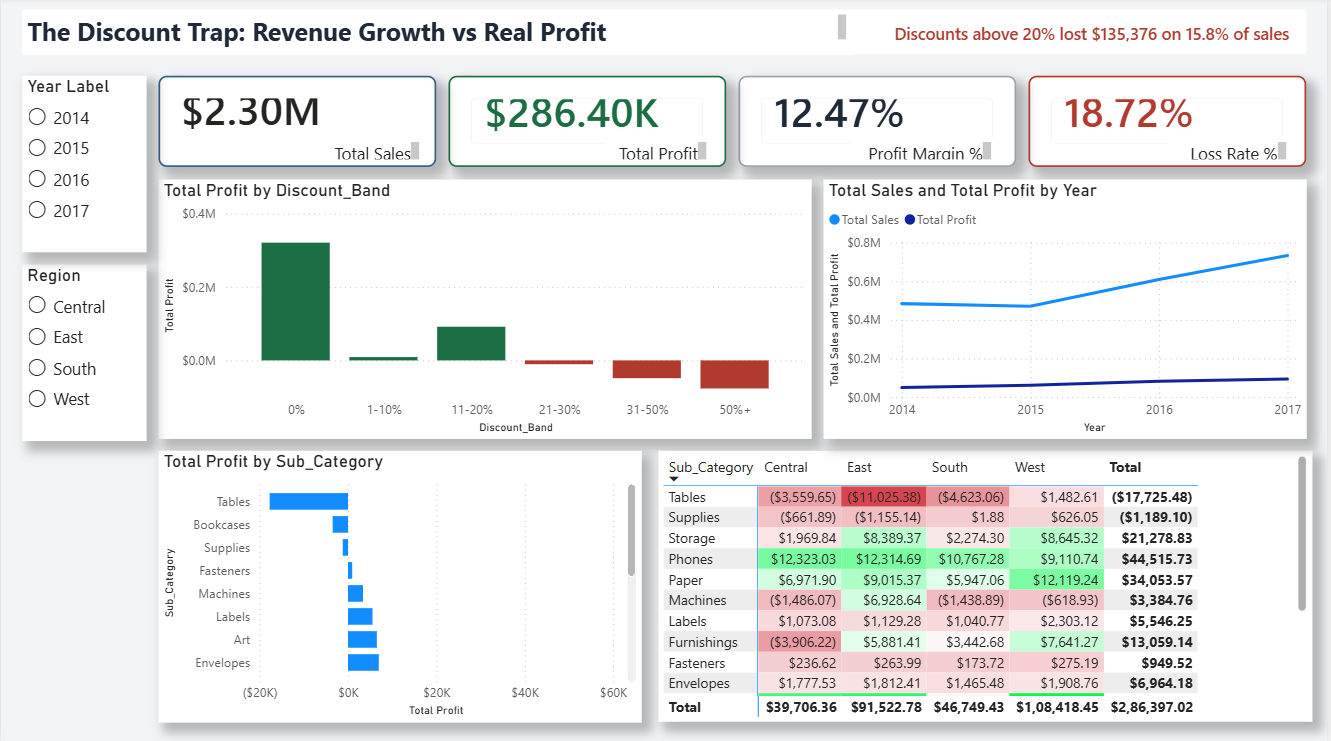

Layout of this report page (visuals, bound fields, positions):
{"tool":"powerbi","page":{"name":"Dashboard","canvas":[1280,720],"ordinal":0},"visuals":[{"type":"cardVisual","fields":{"Data":["Superstore.Loss Rate %"]},"box":[992,76,268,88],"z":0},{"type":"cardVisual","fields":{"Data":["Superstore.Profit Margin %"]},"box":[712,76,268,88],"z":1000},{"type":"cardVisual","fields":{"Data":["Superstore.Total Profit"]},"box":[432,76,268,88],"z":2000},{"type":"cardVisual","fields":{"Data":["Superstore.Total Sales (Millions)"]},"box":[152,76,268,88],"z":3000},{"type":"clusteredColumnChart","fields":{"Category":["Superstore.Discount_Band"],"Y":["Superstore.Total Profit"]},"box":[152,176,630,250],"z":4000},{"type":"clusteredBarChart","fields":{"Y":["Superstore.Total Profit"],"Category":["Superstore.Sub_Category"]},"box":[152,438,466,262],"z":5000},{"type":"pivotTable","fields":{"Rows":["Superstore.Sub_Category"],"Columns":["Superstore.Region"],"Values":["Superstore.Total Profit"]},"box":[635,426.7,630,263.3],"z":6000},{"type":"lineChart","fields":{"Category":["Superstore.Year"],"Y":["Superstore.Total Sales","Superstore.Total Profit"]},"box":[794,176,466,250],"z":7000},{"type":"listSlicer","fields":{"Values":["Superstore.Region"]},"box":[20,258,120,170],"z":8000},{"type":"textbox","box":[20,12,800,44],"z":9000},{"type":"cardVisual","fields":{"Data":["Superstore.Headline"]},"box":[820.4,12.1,439.1,43.4],"z":10000},{"type":"textbox","box":[300,135,108.3,26.7],"z":11000},{"type":"listSlicer","fields":{"Values":["Superstore.Year Label"]},"box":[20,76,120,170],"z":12000},{"type":"textbox","box":[583.3,135,101.7,26.7],"z":13000},{"type":"textbox","box":[820,135,140,26.7],"z":14000},{"type":"textbox","box":[1126.7,135,118.3,26.7],"z":15000}]}

Visuals, with their boxes in screenshot pixels (x1, y1, x2, y2), scaled from the page's 1280x720 canvas onto the 1331x741 screenshot:
cardVisual - Superstore.Loss Rate %: l=1032, t=78, r=1310, b=169
cardVisual - Superstore.Profit Margin %: l=740, t=78, r=1019, b=169
cardVisual - Superstore.Total Profit: l=449, t=78, r=728, b=169
cardVisual - Superstore.Total Sales (Millions): l=158, t=78, r=437, b=169
clusteredColumnChart - Superstore.Discount_Band x Superstore.Total Profit: l=158, t=181, r=813, b=438
clusteredBarChart - Superstore.Total Profit x Superstore.Sub_Category: l=158, t=451, r=643, b=720
pivotTable - Superstore.Sub_Category x Superstore.Region: l=660, t=439, r=1315, b=710
lineChart - Superstore.Year x Superstore.Total Sales: l=826, t=181, r=1310, b=438
listSlicer - Superstore.Region: l=21, t=266, r=146, b=440
textbox: l=21, t=12, r=853, b=58
cardVisual - Superstore.Headline: l=853, t=12, r=1310, b=57
textbox: l=312, t=139, r=425, b=166
listSlicer - Superstore.Year Label: l=21, t=78, r=146, b=253
textbox: l=607, t=139, r=712, b=166
textbox: l=853, t=139, r=998, b=166
textbox: l=1172, t=139, r=1295, b=166
